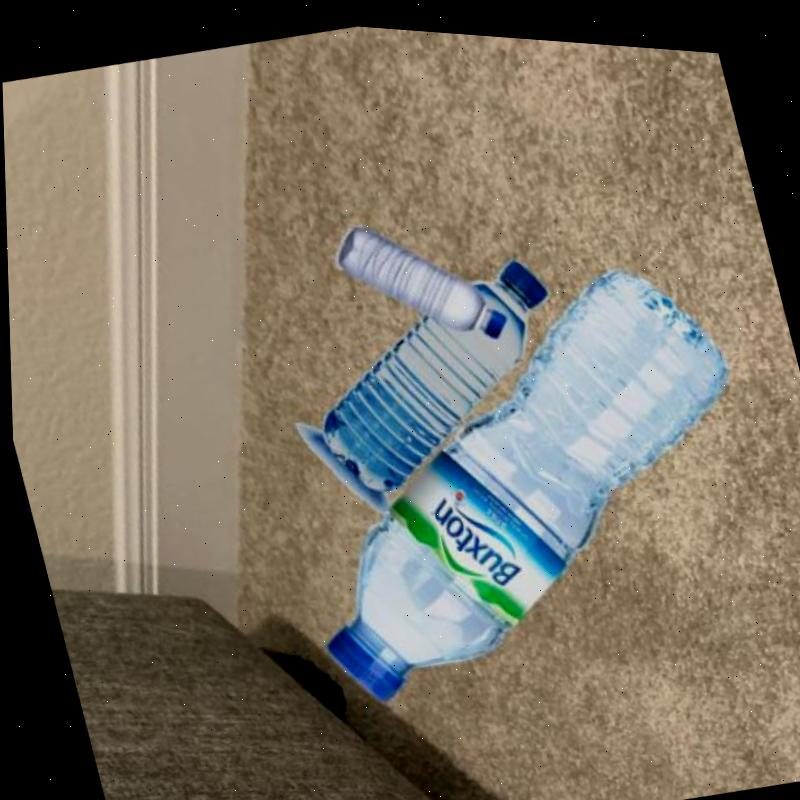botella: (241, 221, 789, 735), (289, 236, 588, 509), (328, 193, 503, 357)
